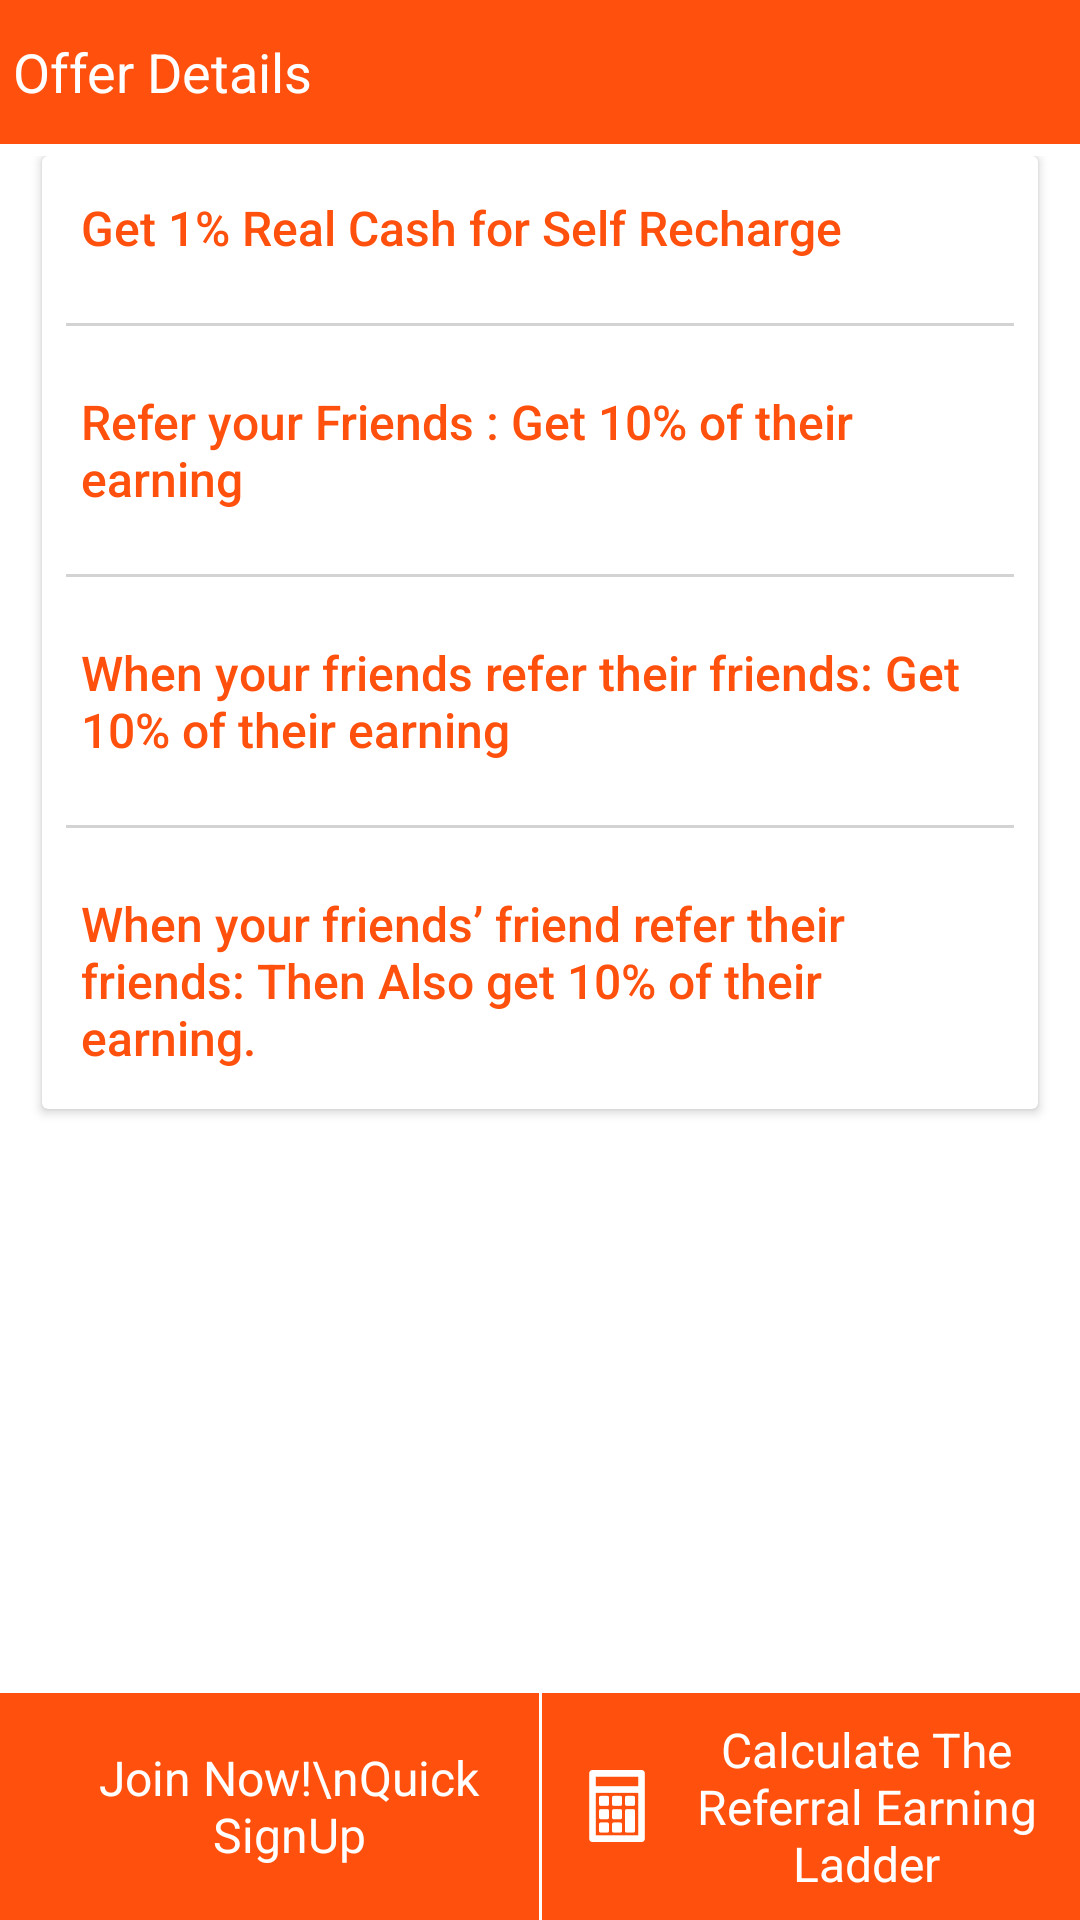

Where to tap for icons on this 1080px x 1920px app screen, as [x,y]:
calculator: [617,1806]
